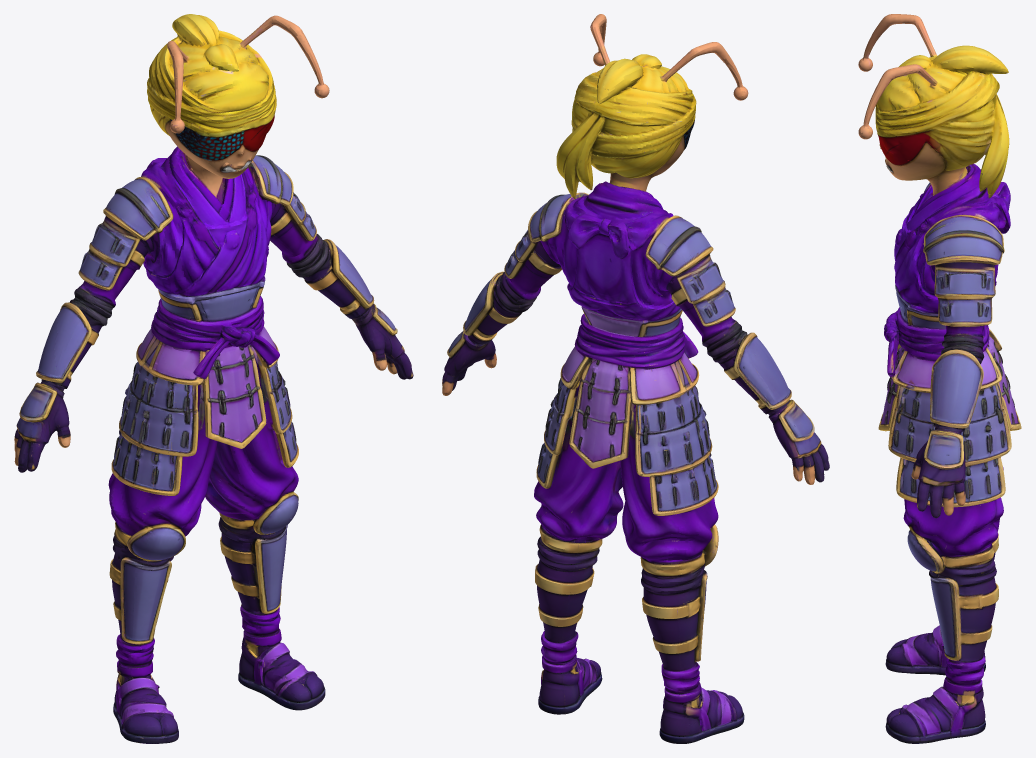
The model's file is rebel_469_static_source_sohei_v4_multiview.glb.
3 renders of one model, left to right at view 1: azimuth 30°, elevation 25°; view 2: azimuth 150°, elevation 25°; view 3: azimuth 270°, elevation 25°, orthographic. The views are drawn at different scales.
Parts seen in each view (by area): view 1: Mesh_0; view 2: Mesh_0; view 3: Mesh_0.
Part boxes in pixels (x1,y1,x2,y2): Mesh_0: (14, 14, 413, 743); Mesh_0: (442, 14, 829, 743); Mesh_0: (858, 14, 1021, 743).
Size of the model in its own units: 1.12 by 1.9 by 0.4265.
Materials: 1 (1 with a texture image).
